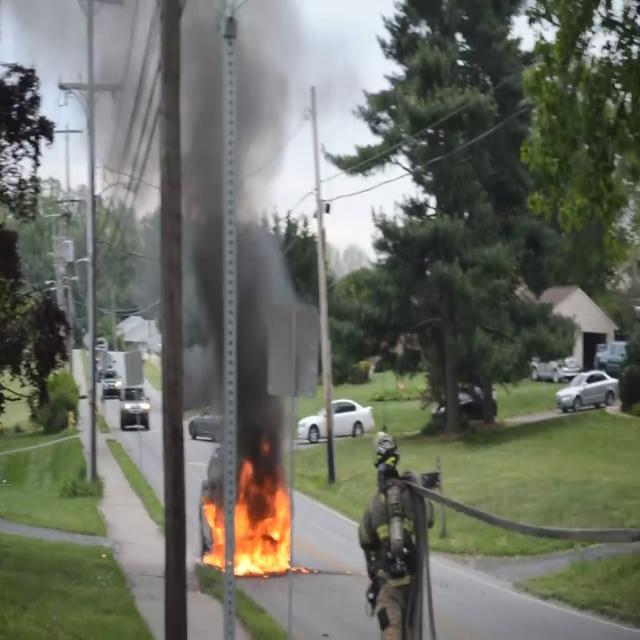Fire: (200, 460, 297, 579)
Smoke: (170, 1, 304, 482)
